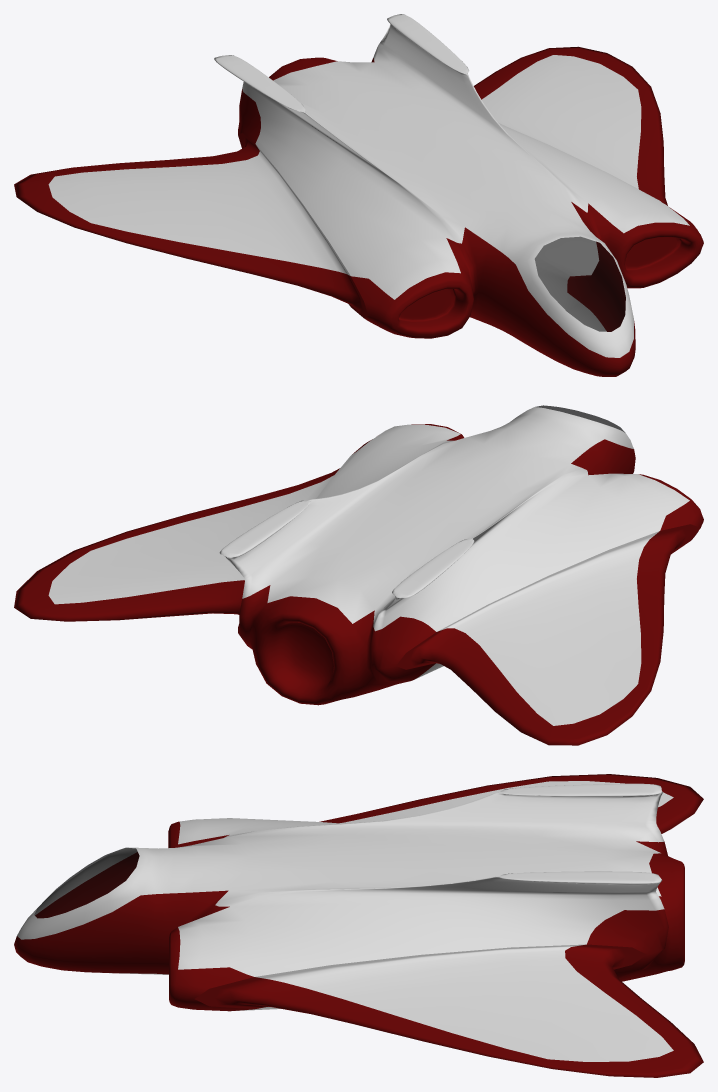
File: Avion.dae
3 views of the same model, one above another, from view 1: azimuth 30°, elevation 25°; view 2: azimuth 150°, elevation 25°; view 3: azimuth 270°, elevation 25° (orthographic). The views are drawn at different scales.
Parts seen in each view (by area): view 1: Avion; view 2: Avion; view 3: Avion.
Part boxes in pixels (box(x1,y1,x2,y2)): Avion: box(14, 14, 703, 376); Avion: box(14, 405, 703, 745); Avion: box(14, 774, 703, 1077).
Size of the model in its own units: 2.06 by 1.99 by 0.4343.
